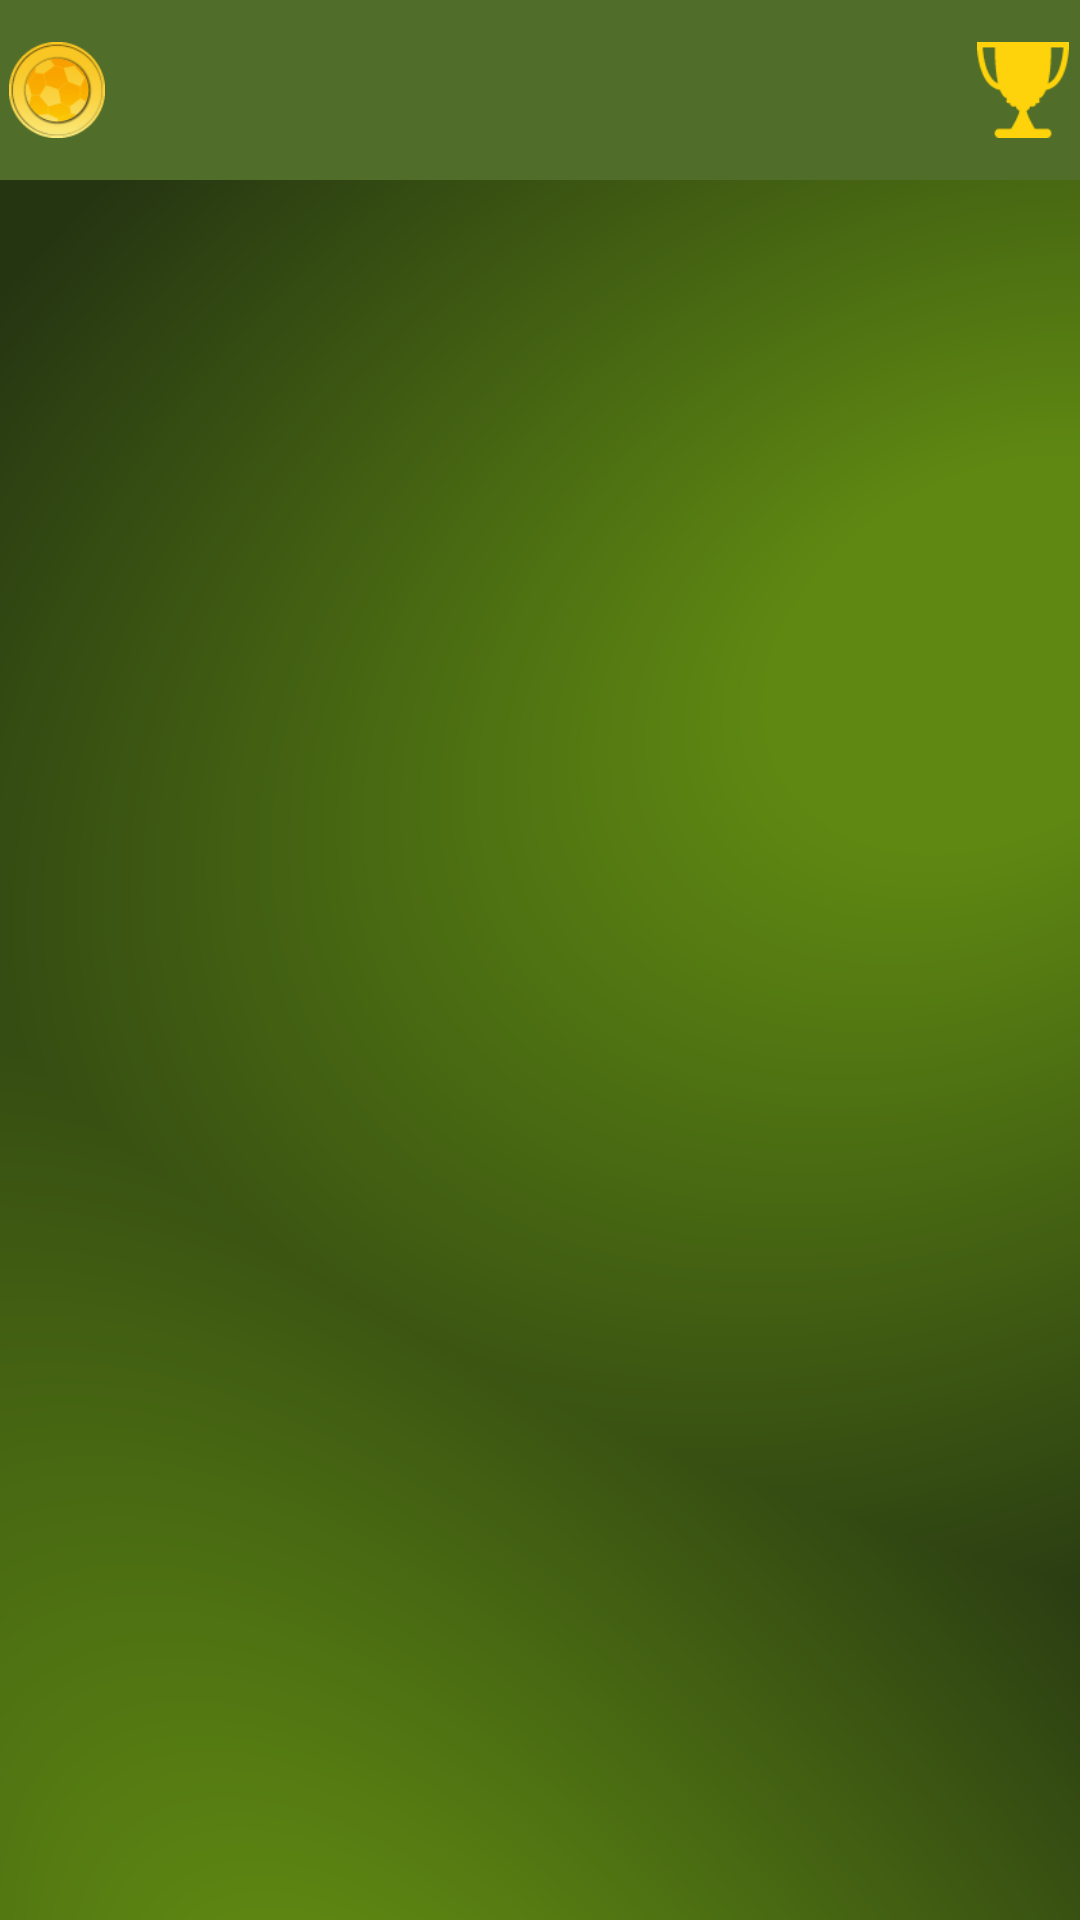

Icons on this 1080x1920 Android screen, each with the point to tap as point (x, y):
coin: point (57, 90)
